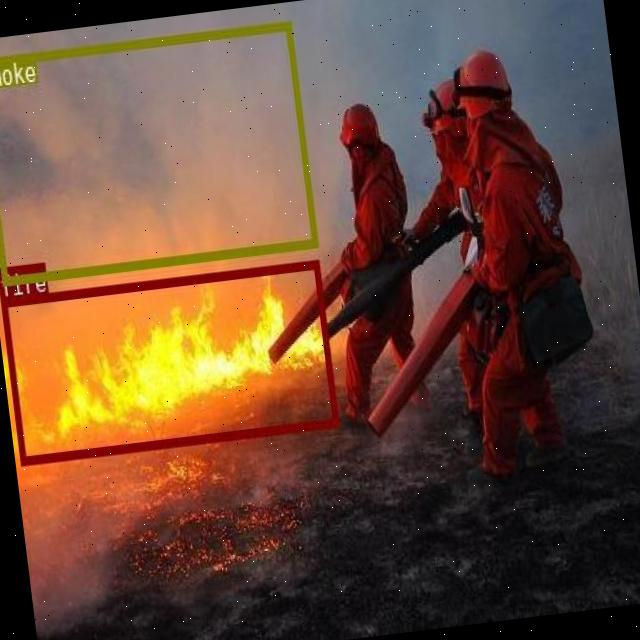fire: (0, 259, 338, 463)
smoke: (0, 20, 316, 283)
